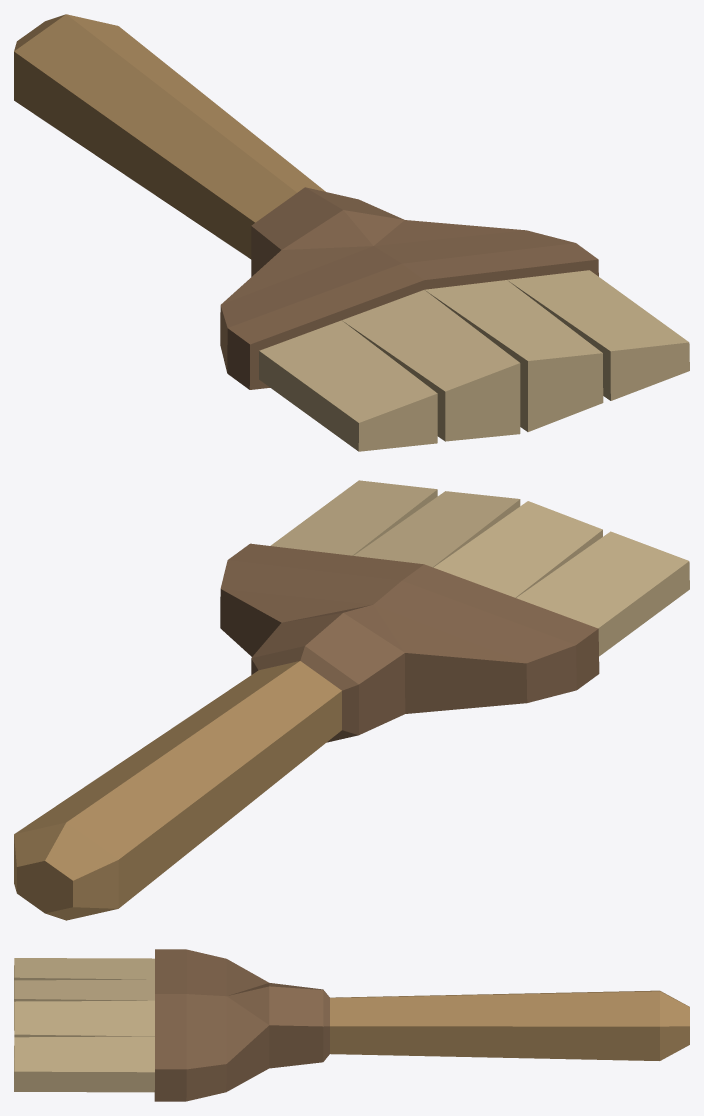
File: brush.fbx
3 views of the same model, one above another, from view 1: azimuth 30°, elevation 25°; view 2: azimuth 150°, elevation 25°; view 3: azimuth 270°, elevation 25° (orthographic). The views are drawn at different scales.
Parts seen in each view (by area): view 1: LargeBrush; view 2: LargeBrush; view 3: LargeBrush.
Boxes of the visible parts, x1=… form: LargeBrush: x1=14, y1=14, x2=689, y2=451; LargeBrush: x1=14, y1=480, x2=689, y2=920; LargeBrush: x1=14, y1=949, x2=689, y2=1101.
Size of the model in its own units: 10.86 by 3.3 by 25.79.
